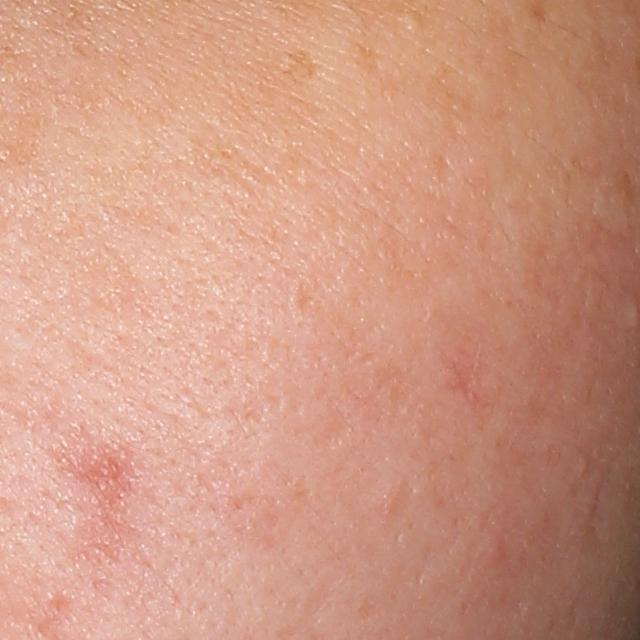comedo: (400, 8, 426, 34)
melasma: (279, 51, 317, 82)
